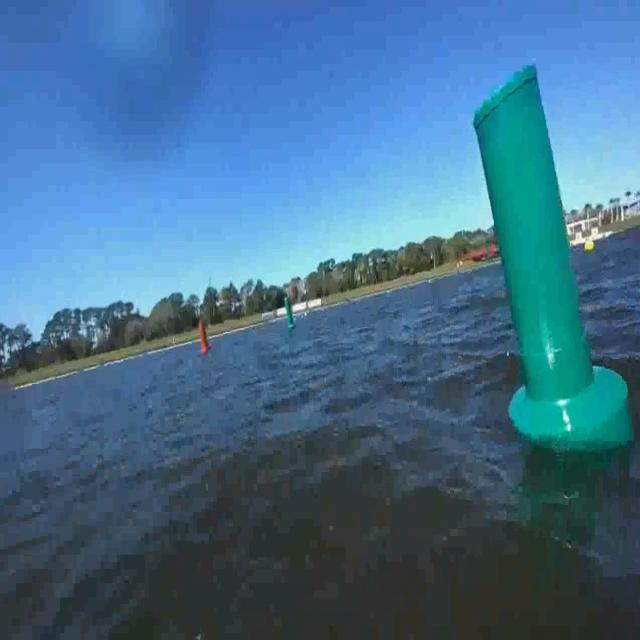green-column-buoy: (446, 78, 628, 463), (278, 288, 302, 328)
red-column-buoy: (195, 305, 215, 360)
